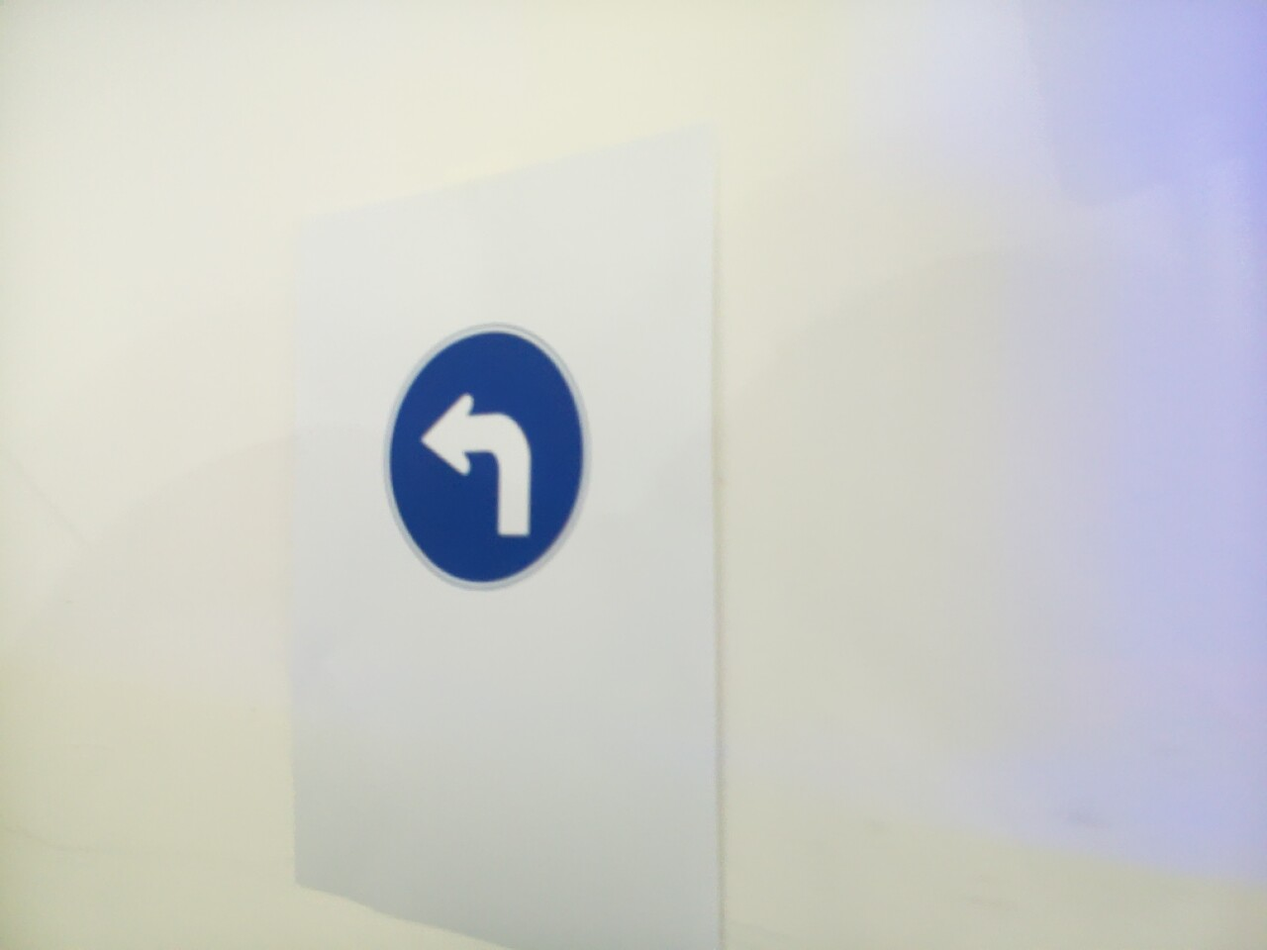left_turn: (381, 323, 591, 592)
